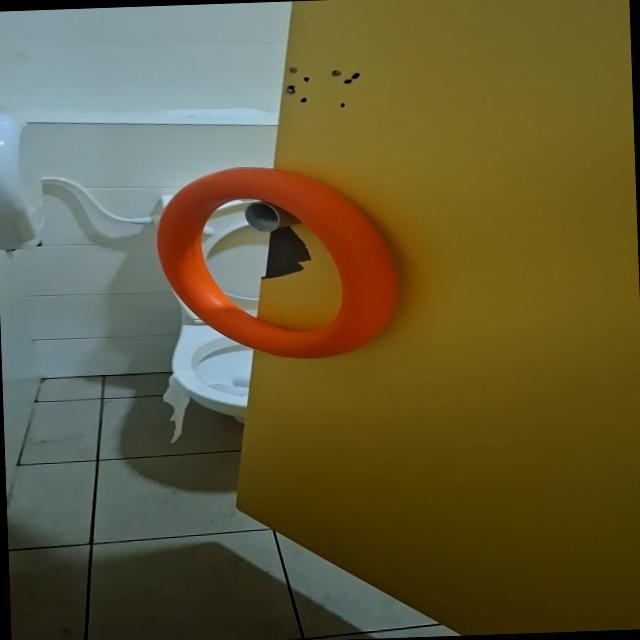note: (152, 160, 402, 364)
